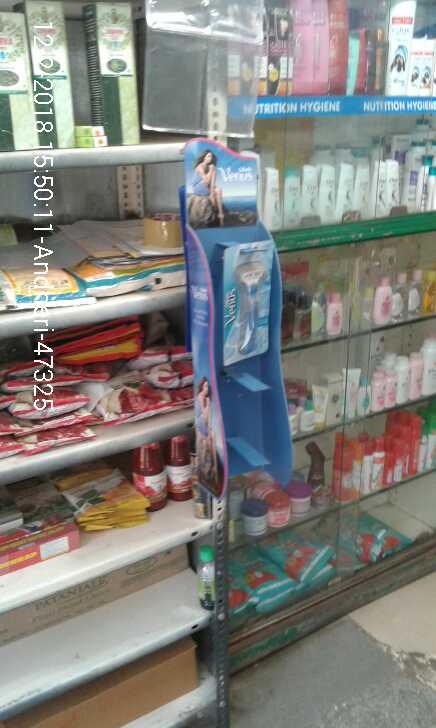beauty: (222, 244, 270, 365)
pharmacy: (326, 504, 415, 557), (225, 552, 304, 597), (267, 530, 337, 574)
